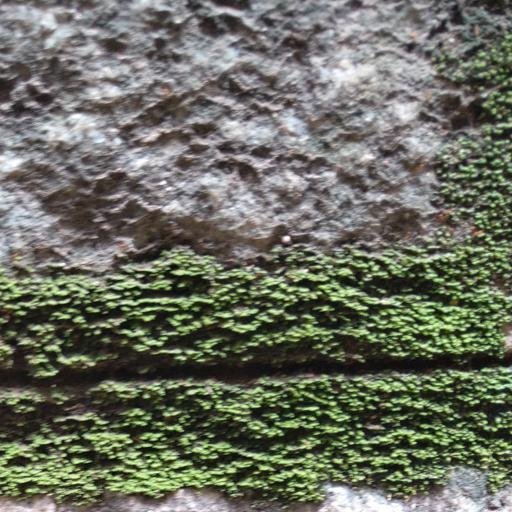algae: (3, 252, 512, 491)
